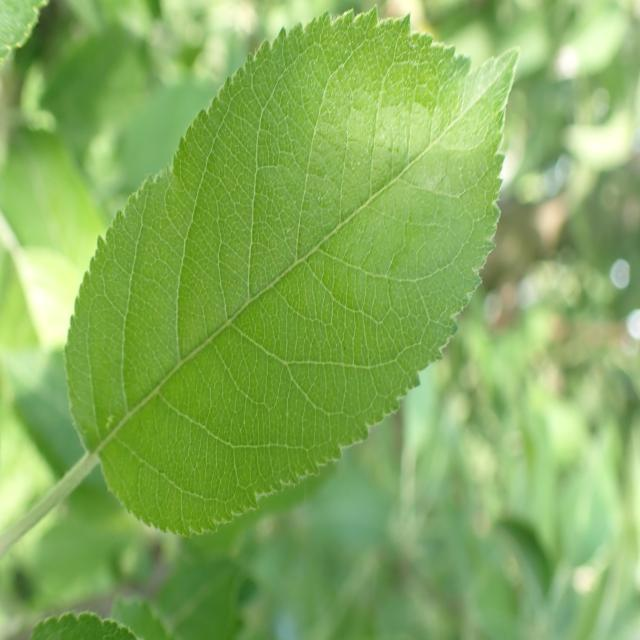healthy: (65, 5, 521, 537)
